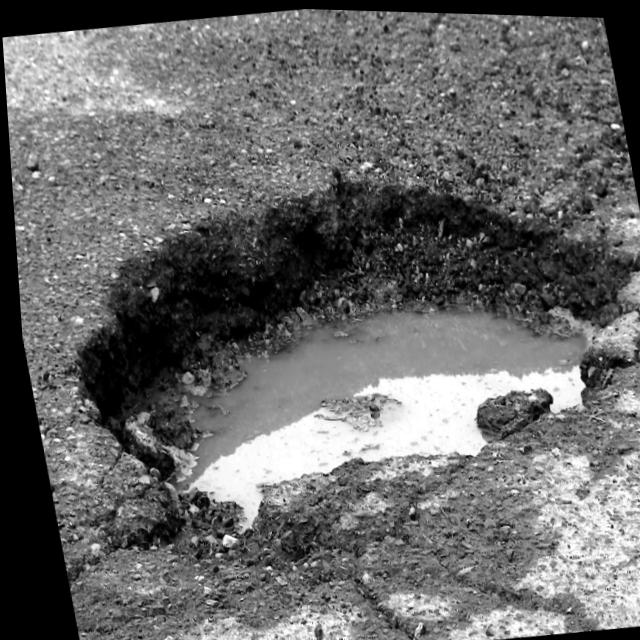pathole: (37, 166, 640, 526), (181, 304, 582, 526)
